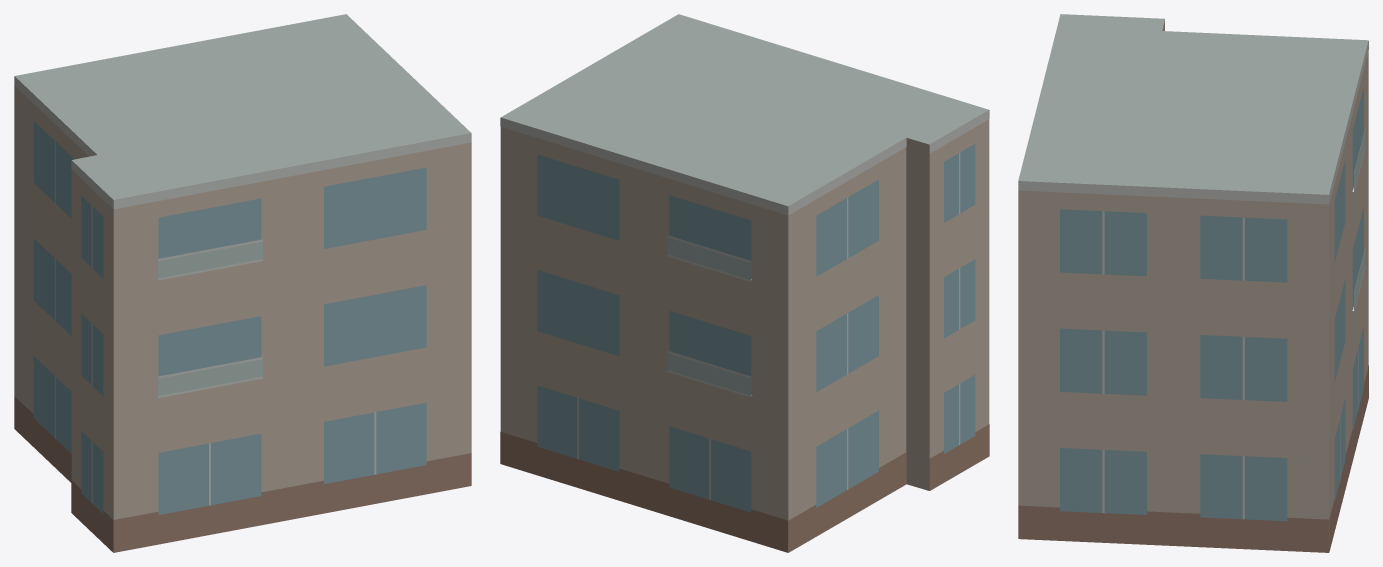
The model's file is survey-upis-32720793.glb.
3 renders of one model, left to right at view 1: azimuth 30°, elevation 25°; view 2: azimuth 150°, elevation 25°; view 3: azimuth 270°, elevation 25°, orthographic. The views are drawn at different scales.
Parts seen in each view (by area): view 1: survey-upis-32720793.tmp; view 2: survey-upis-32720793.tmp; view 3: survey-upis-32720793.tmp.
Boxes of the visible parts, x1,y1,x2,y2 form: survey-upis-32720793.tmp: (14, 14, 471, 552); survey-upis-32720793.tmp: (500, 14, 989, 552); survey-upis-32720793.tmp: (1018, 14, 1368, 552).
Size of the model in its own units: 9.92 by 9.15 by 8.13.
